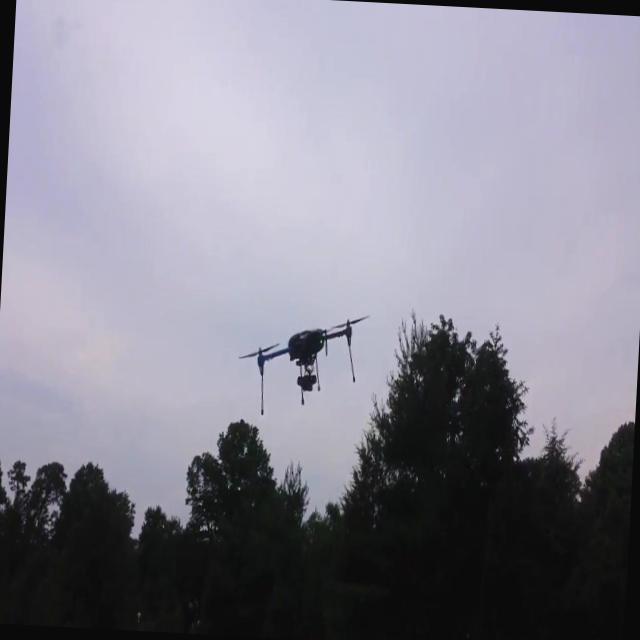drone: (234, 302, 373, 422)
